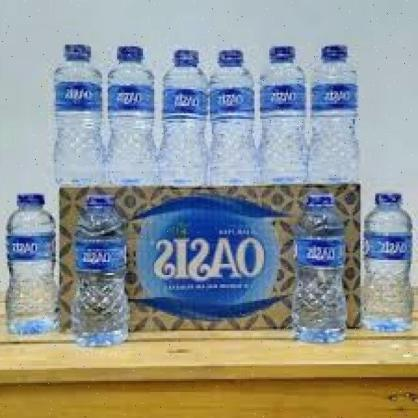bottle: (57, 186, 132, 348), (273, 192, 349, 348), (43, 34, 109, 186), (303, 39, 368, 182), (147, 48, 215, 181), (359, 190, 412, 340), (0, 186, 51, 331), (102, 50, 155, 186), (205, 48, 257, 179), (251, 47, 300, 177)
cap: (57, 42, 98, 61), (83, 192, 118, 214), (320, 42, 351, 62), (266, 44, 294, 66), (115, 44, 148, 62), (16, 189, 46, 208), (300, 193, 339, 207), (175, 48, 201, 68), (214, 50, 244, 66), (374, 189, 402, 206)
label: (70, 242, 130, 276), (360, 229, 413, 261), (304, 85, 356, 117), (303, 237, 350, 271), (259, 88, 306, 122), (49, 84, 101, 112), (108, 84, 157, 111), (215, 93, 255, 118), (164, 92, 207, 115), (13, 238, 57, 260)
